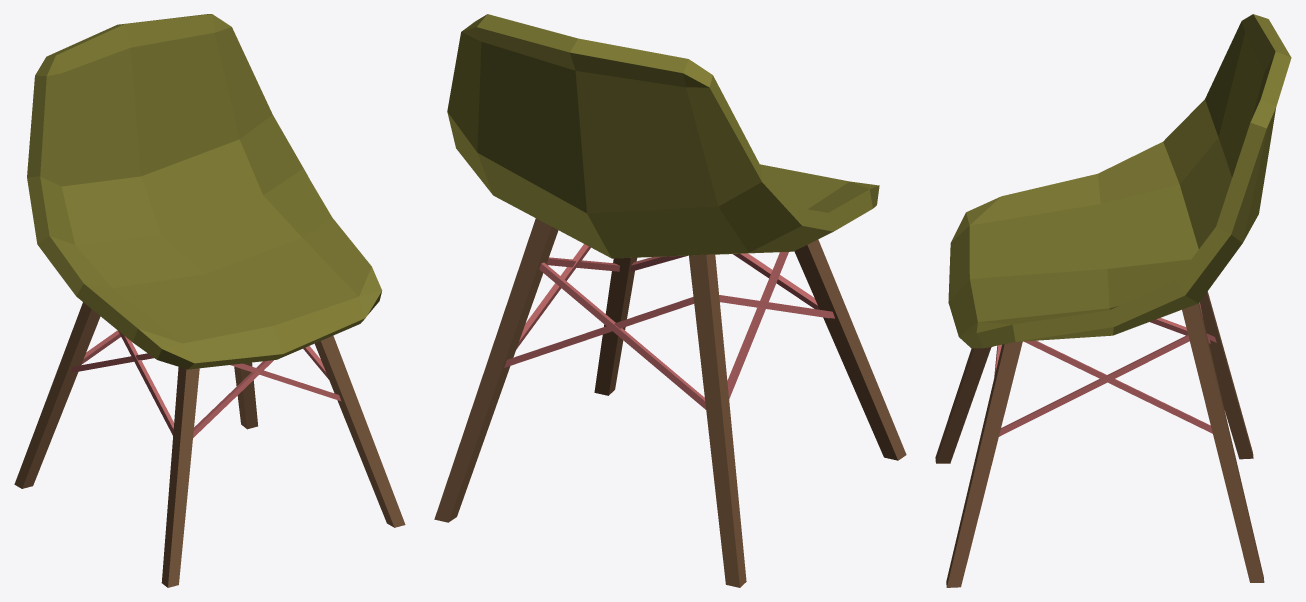
The model's file is Chair_18.fbx.
3 renders of one model, left to right at view 1: azimuth 30°, elevation 25°; view 2: azimuth 150°, elevation 25°; view 3: azimuth 270°, elevation 25°, orthographic. The views are drawn at different scales.
Parts seen in each view (by area): view 1: Chair_18; view 2: Chair_18; view 3: Chair_18.
Boxes of the visible parts, x1=… form: Chair_18: x1=14, y1=14, x2=405, y2=587; Chair_18: x1=434, y1=14, x2=906, y2=587; Chair_18: x1=935, y1=14, x2=1291, y2=587.
Bounding box in the file's own units: 77.69 × 79.21 × 114.
